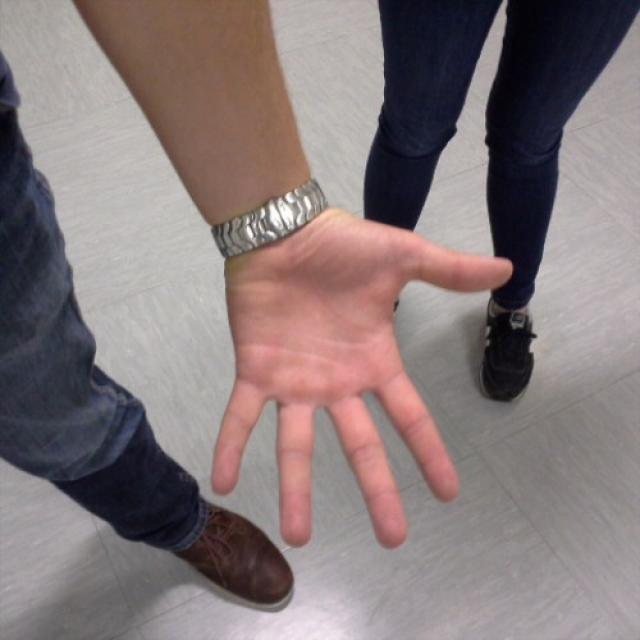paper: (210, 226, 514, 544)
